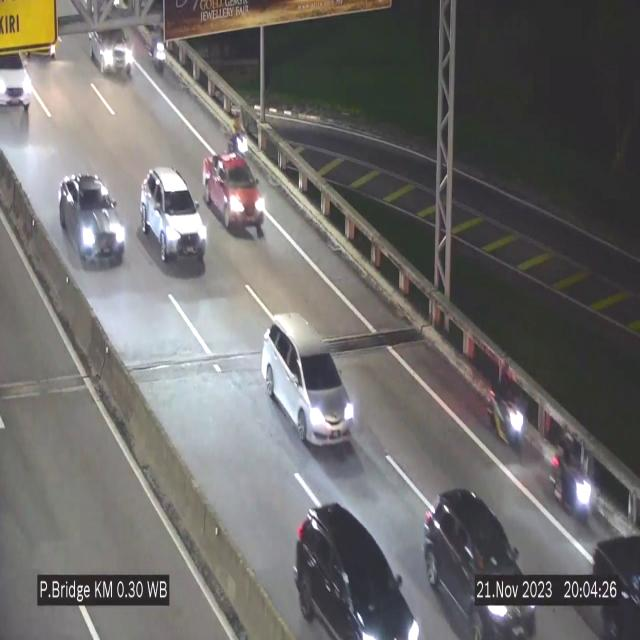Car: (297, 499, 420, 640), (424, 488, 536, 640), (262, 316, 356, 446), (140, 168, 206, 264), (58, 173, 125, 265), (205, 154, 265, 244), (87, 10, 139, 91), (0, 39, 32, 117)
Motorcycle: (553, 425, 595, 523), (490, 357, 530, 456), (146, 19, 172, 90), (223, 100, 251, 156)
